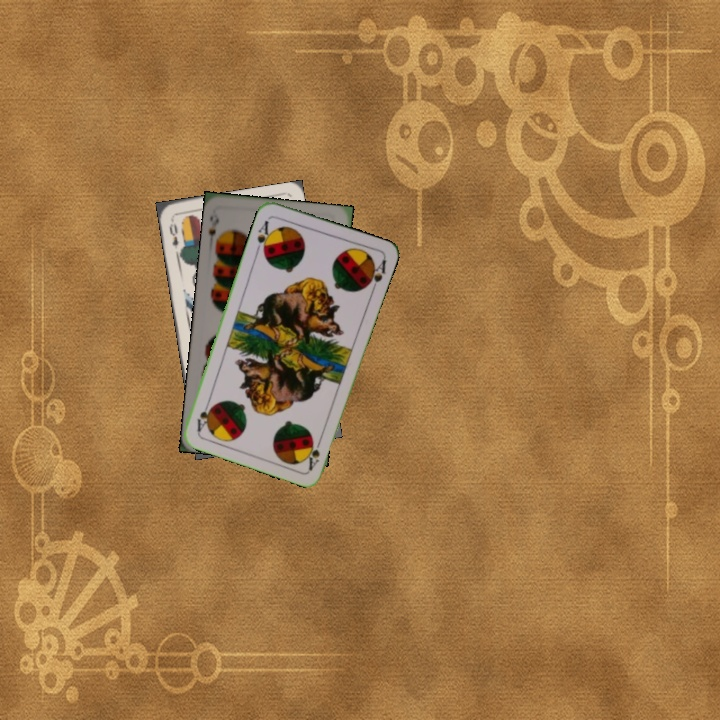EO: (165, 215, 181, 251)
S9: (204, 209, 222, 248)
SA: (252, 216, 275, 256), (303, 433, 325, 472)
